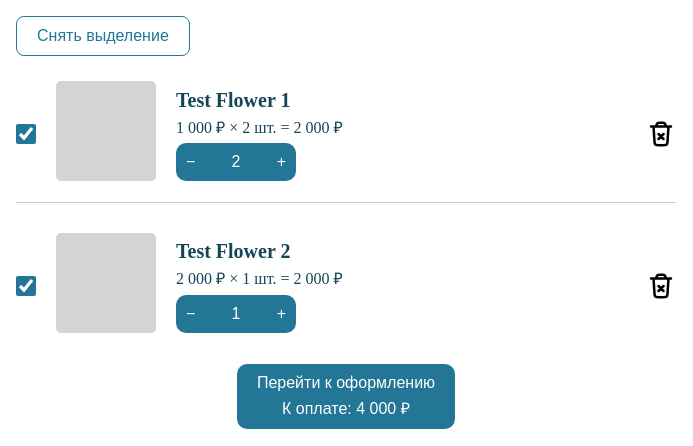
Test case: CartContent › отображает товары, кнопку выбора и оформление
This screenshot has width=693, height=446.
Expected: the text "Test Flower 1" is shown, [176, 88, 290, 110]
Expected: the text "Test Flower 2" is shown, [176, 240, 290, 262]
What coordinates should you click on to do the following:
click the button "Снять выделение"
I would click on:
 (103, 36)
Its box is [16, 16, 190, 56].
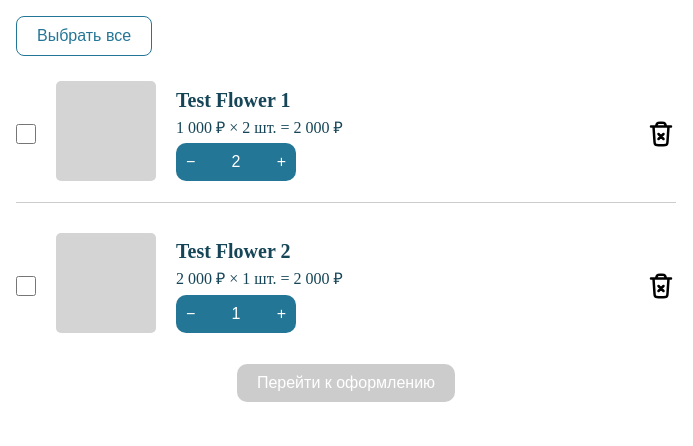
Now the button "Перейти к оформлению" is disabled, box [237, 364, 455, 402]
